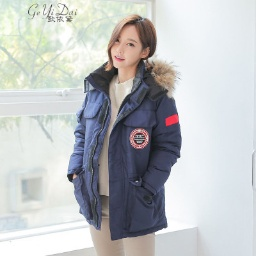face: (101, 14, 159, 70)
